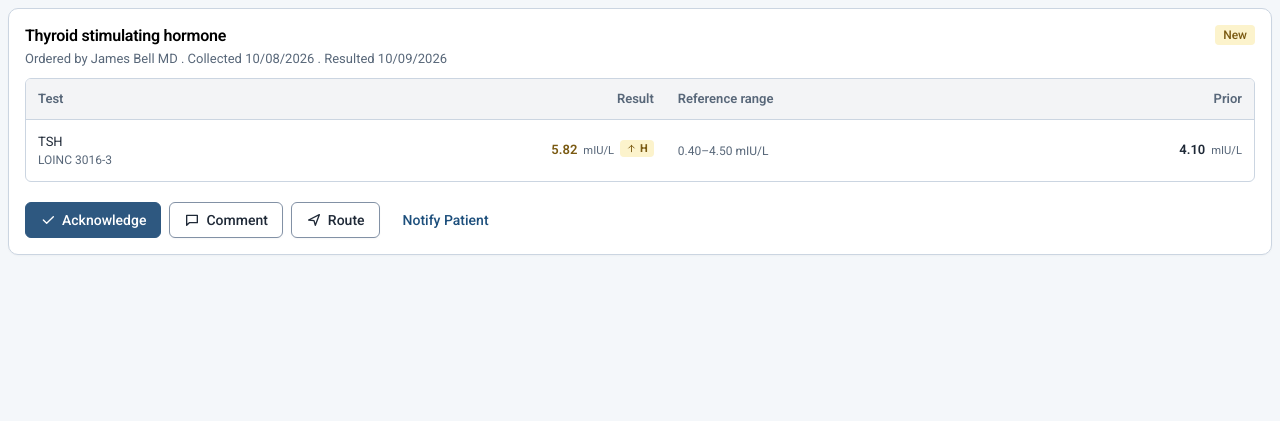
Test case: ResultsReview › adds a comment
Click the button "Comment" at coordinates (226, 220), box [169,202,283,238]
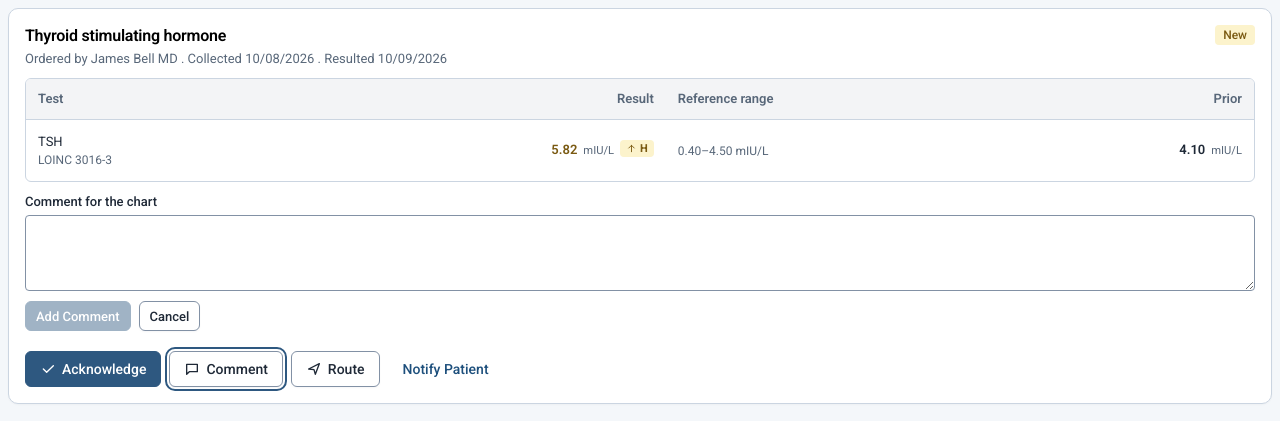
Check: the button "Add Comment" is disabled, box [25,301,130,331]
Type "Repeat with free T4" into the text box labelled "Comment for the chart" at coordinates (640, 253), box [25,215,1255,291]
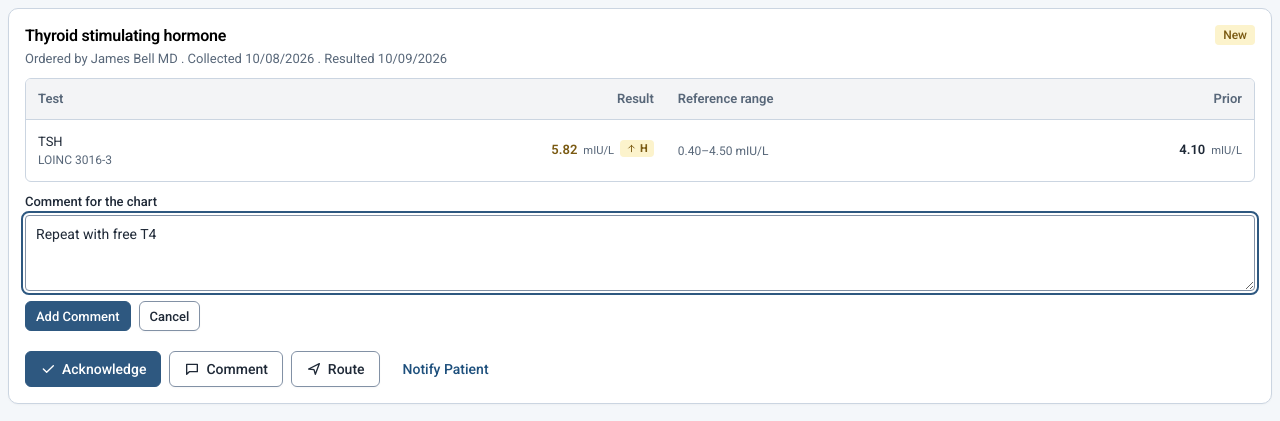
Click the button "Add Comment" at coordinates (78, 316), box [25,301,130,331]
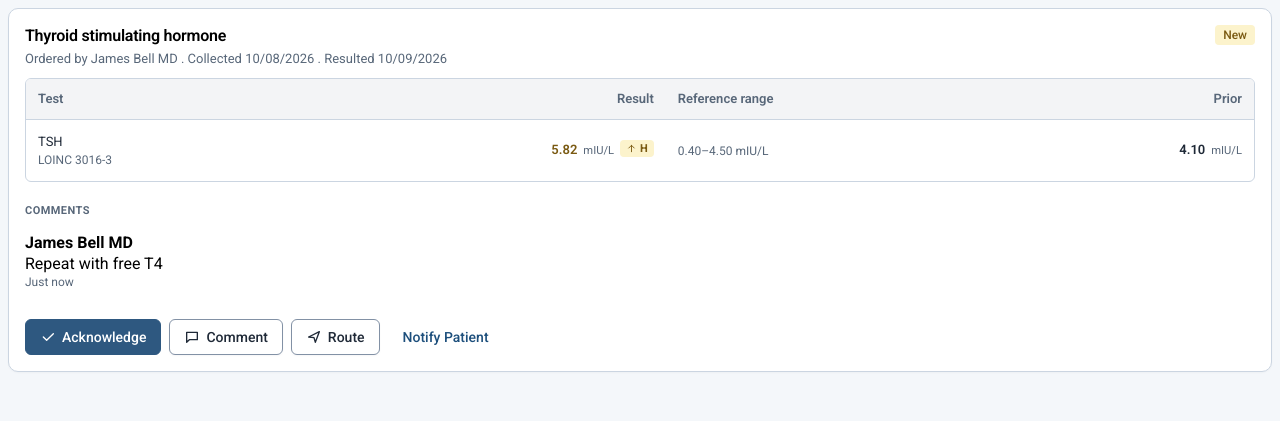
Check: the list shows "Repeat with free T4", box [25,254,163,273]
Check: the label labelled "Comment for the chart" is gone
